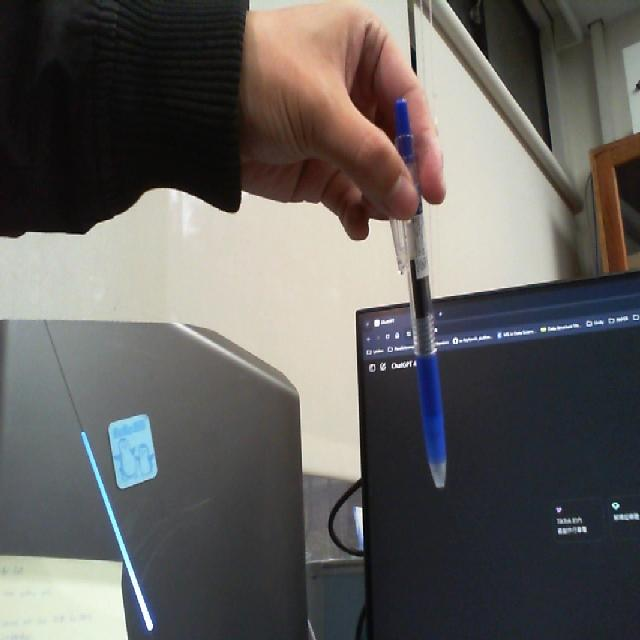Pen: (384, 82, 464, 510)
